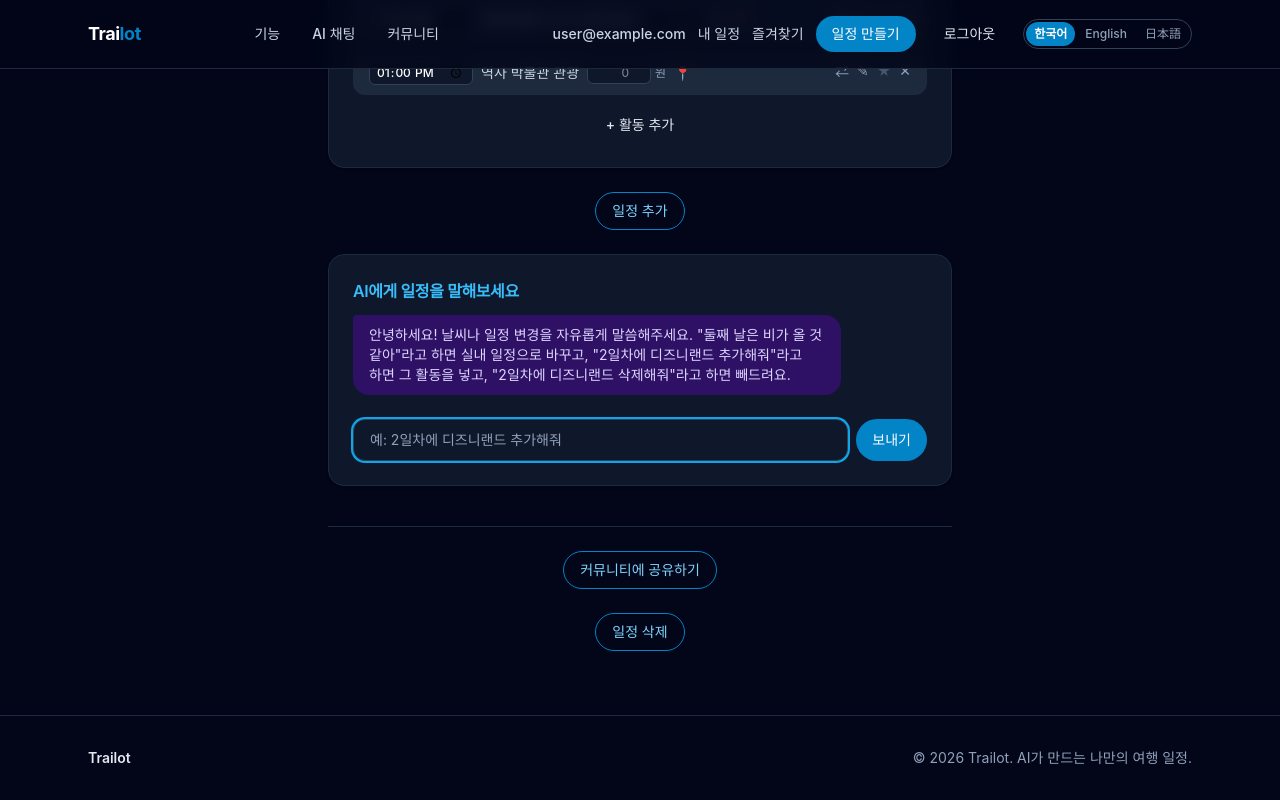
Test: TripDetailPage › resolves free-form add-activity requests via the AI engine in the currently selected language, and re-renders past replies too when the language changes
(page scrolled)
Type "2일차에 디즈니랜드로 가줘" into the field named "메시지 입력" at (601, 440), box [353, 419, 848, 461]
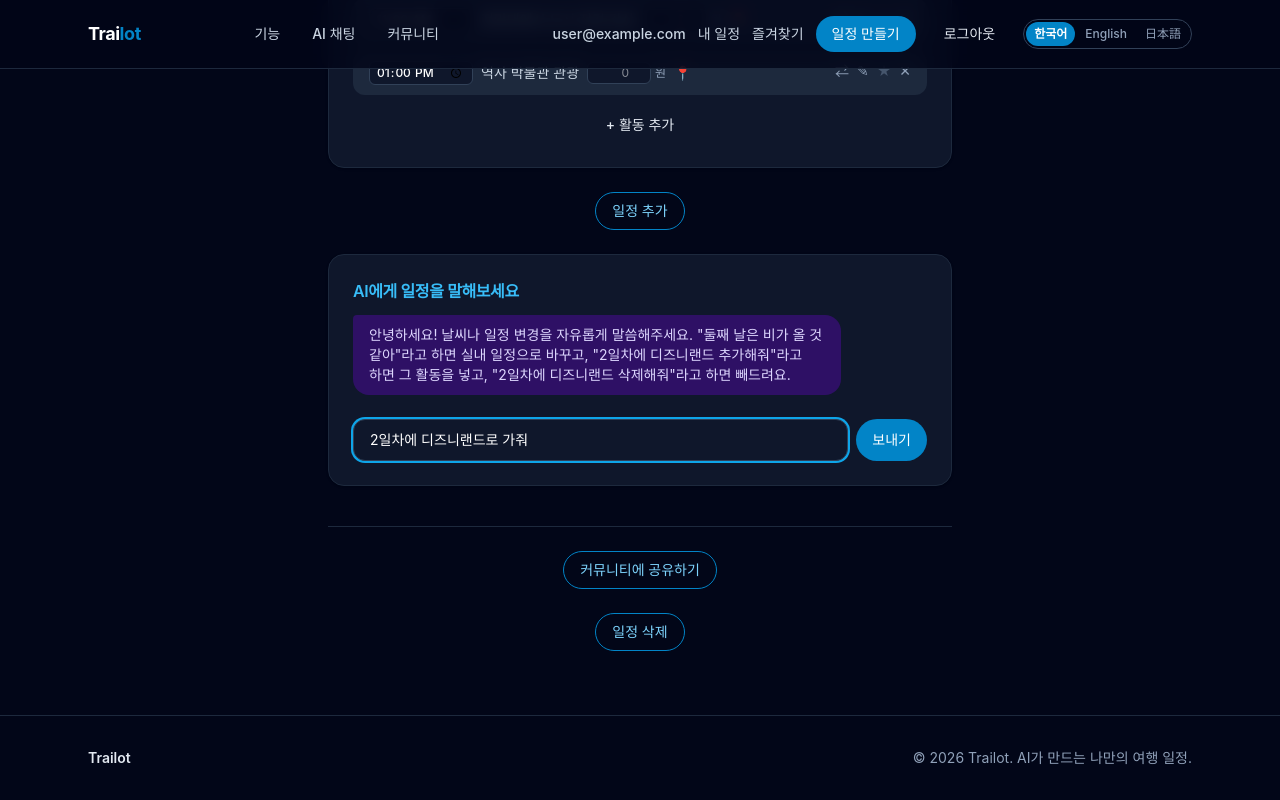
Click the button "보내기" at (892, 440), box [856, 419, 927, 461]
(page scrolled)
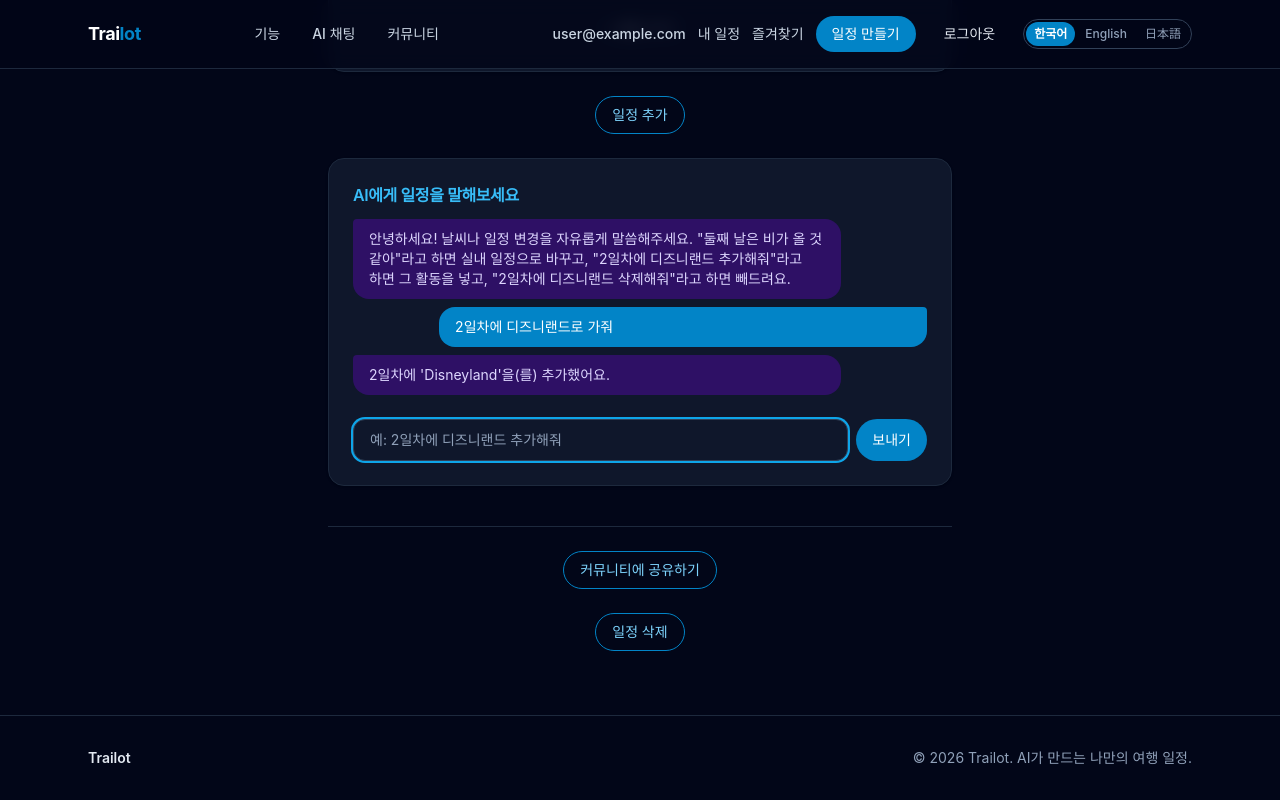
Expected: the text "2일차에 'Disneyland'을(를) 추가했어요." is shown, [353, 355, 841, 395]
Click the button "English" at (1106, 34), box [1077, 22, 1135, 46]
(page scrolled)
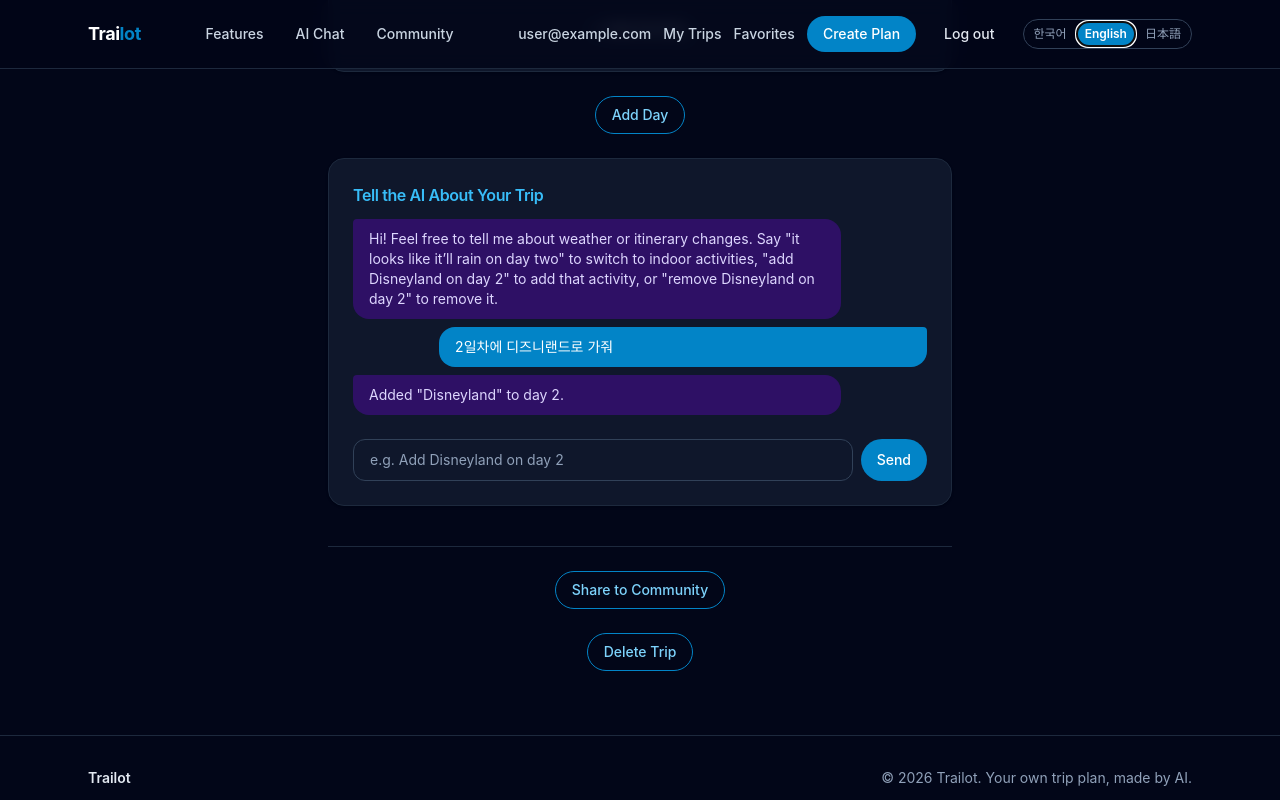
Expected: the text "Added \"Disneyland\" to day 2." is shown, [353, 375, 841, 415]
Expected: the text "추가했어요" is gone
